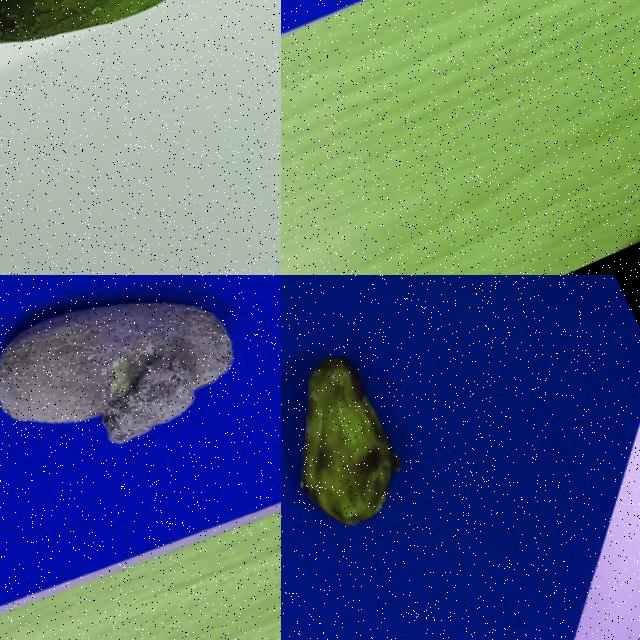Agglomerated_cocoabeans: (0, 275, 280, 563)
Fine_cocoabeans: (0, 0, 280, 150)
Flat_cocoabeans: (281, 275, 521, 611)
